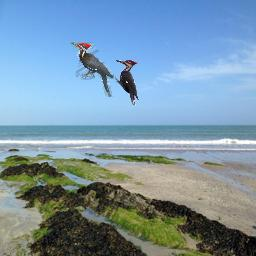Woodpecker: (70, 42, 114, 97), (115, 60, 139, 106)
